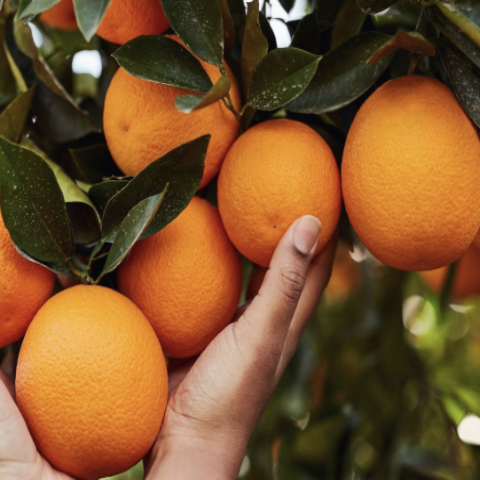orange: (0, 279, 179, 475), (318, 62, 479, 274), (211, 99, 348, 275)
